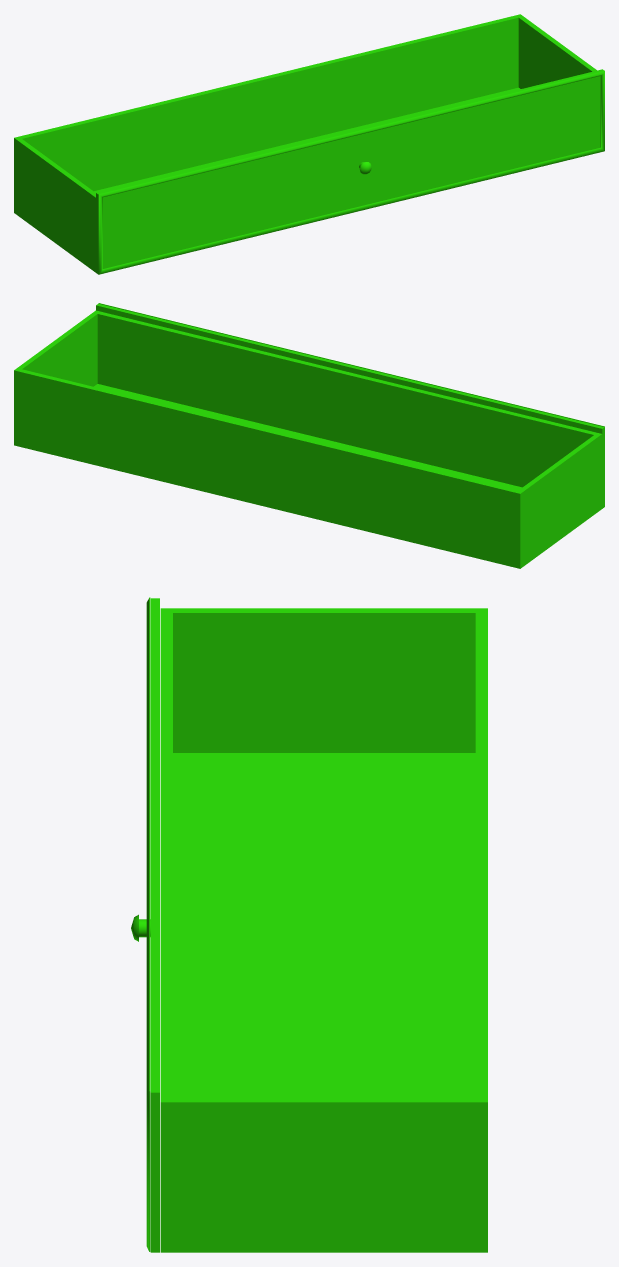
The model's file is Cupboard_06_Drawer.fbx.
The picture shows the model from 3 angles, top to bottom: view 1: azimuth 30°, elevation 25°; view 2: azimuth 150°, elevation 25°; view 3: azimuth 270°, elevation 25°; orthographic projection. The views are drawn at different scales.
Visible parts, largest first — view 1: Cupboard_06_Drawer; view 2: Cupboard_06_Drawer; view 3: Cupboard_06_Drawer.
Boxes of the visible parts, bbox=[...] form: Cupboard_06_Drawer: bbox=[14, 14, 604, 274]; Cupboard_06_Drawer: bbox=[14, 303, 604, 568]; Cupboard_06_Drawer: bbox=[131, 597, 487, 1252].
Size of the model in its own units: 162 by 24.68 by 49.6.
